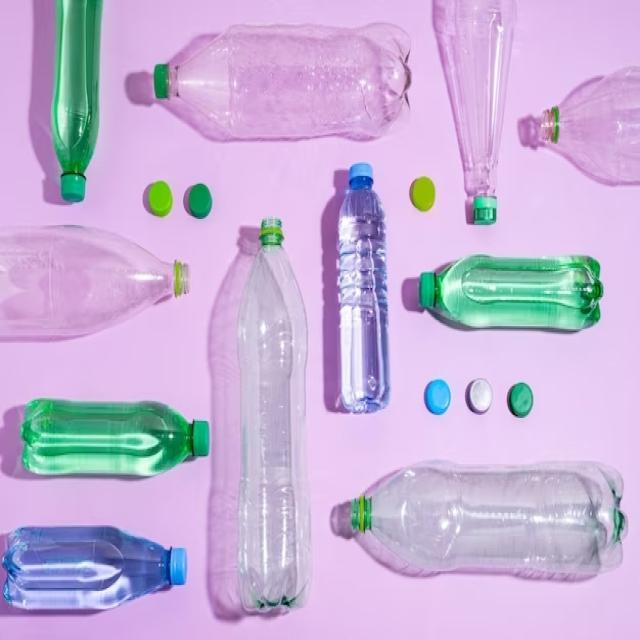Plastico: (340, 458, 630, 590), (235, 211, 317, 624), (143, 24, 415, 144), (1, 219, 193, 342), (19, 389, 215, 486), (1, 522, 191, 618), (433, 0, 510, 221), (416, 248, 604, 336), (335, 155, 394, 417), (536, 61, 638, 194), (49, 0, 107, 208), (420, 371, 452, 418), (507, 376, 535, 424)
